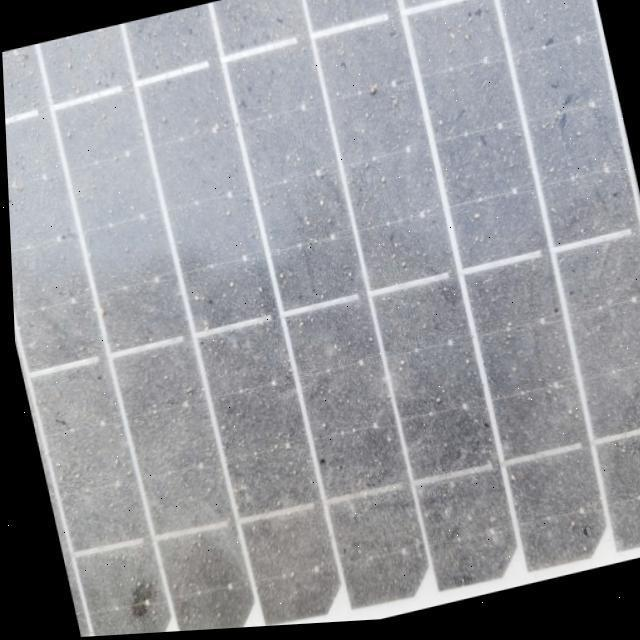Anomaly Solar Panel: (0, 0, 640, 640)
Surface Contaminant: (3, 0, 640, 638)
